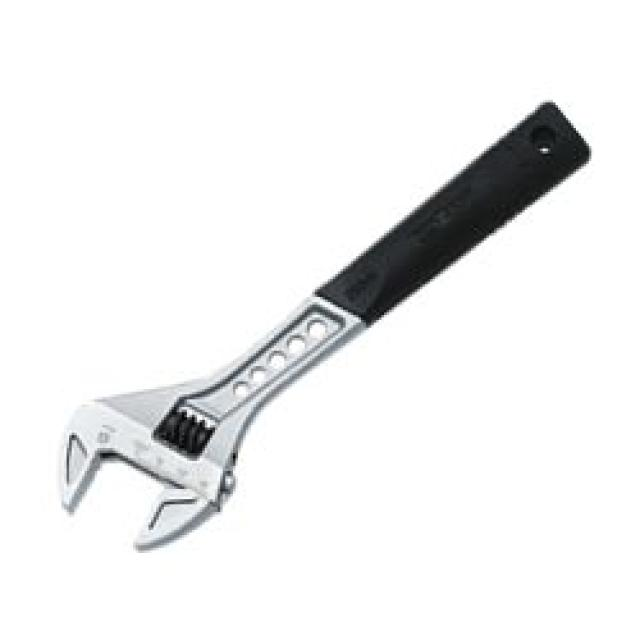wrench: (6, 67, 614, 563)
